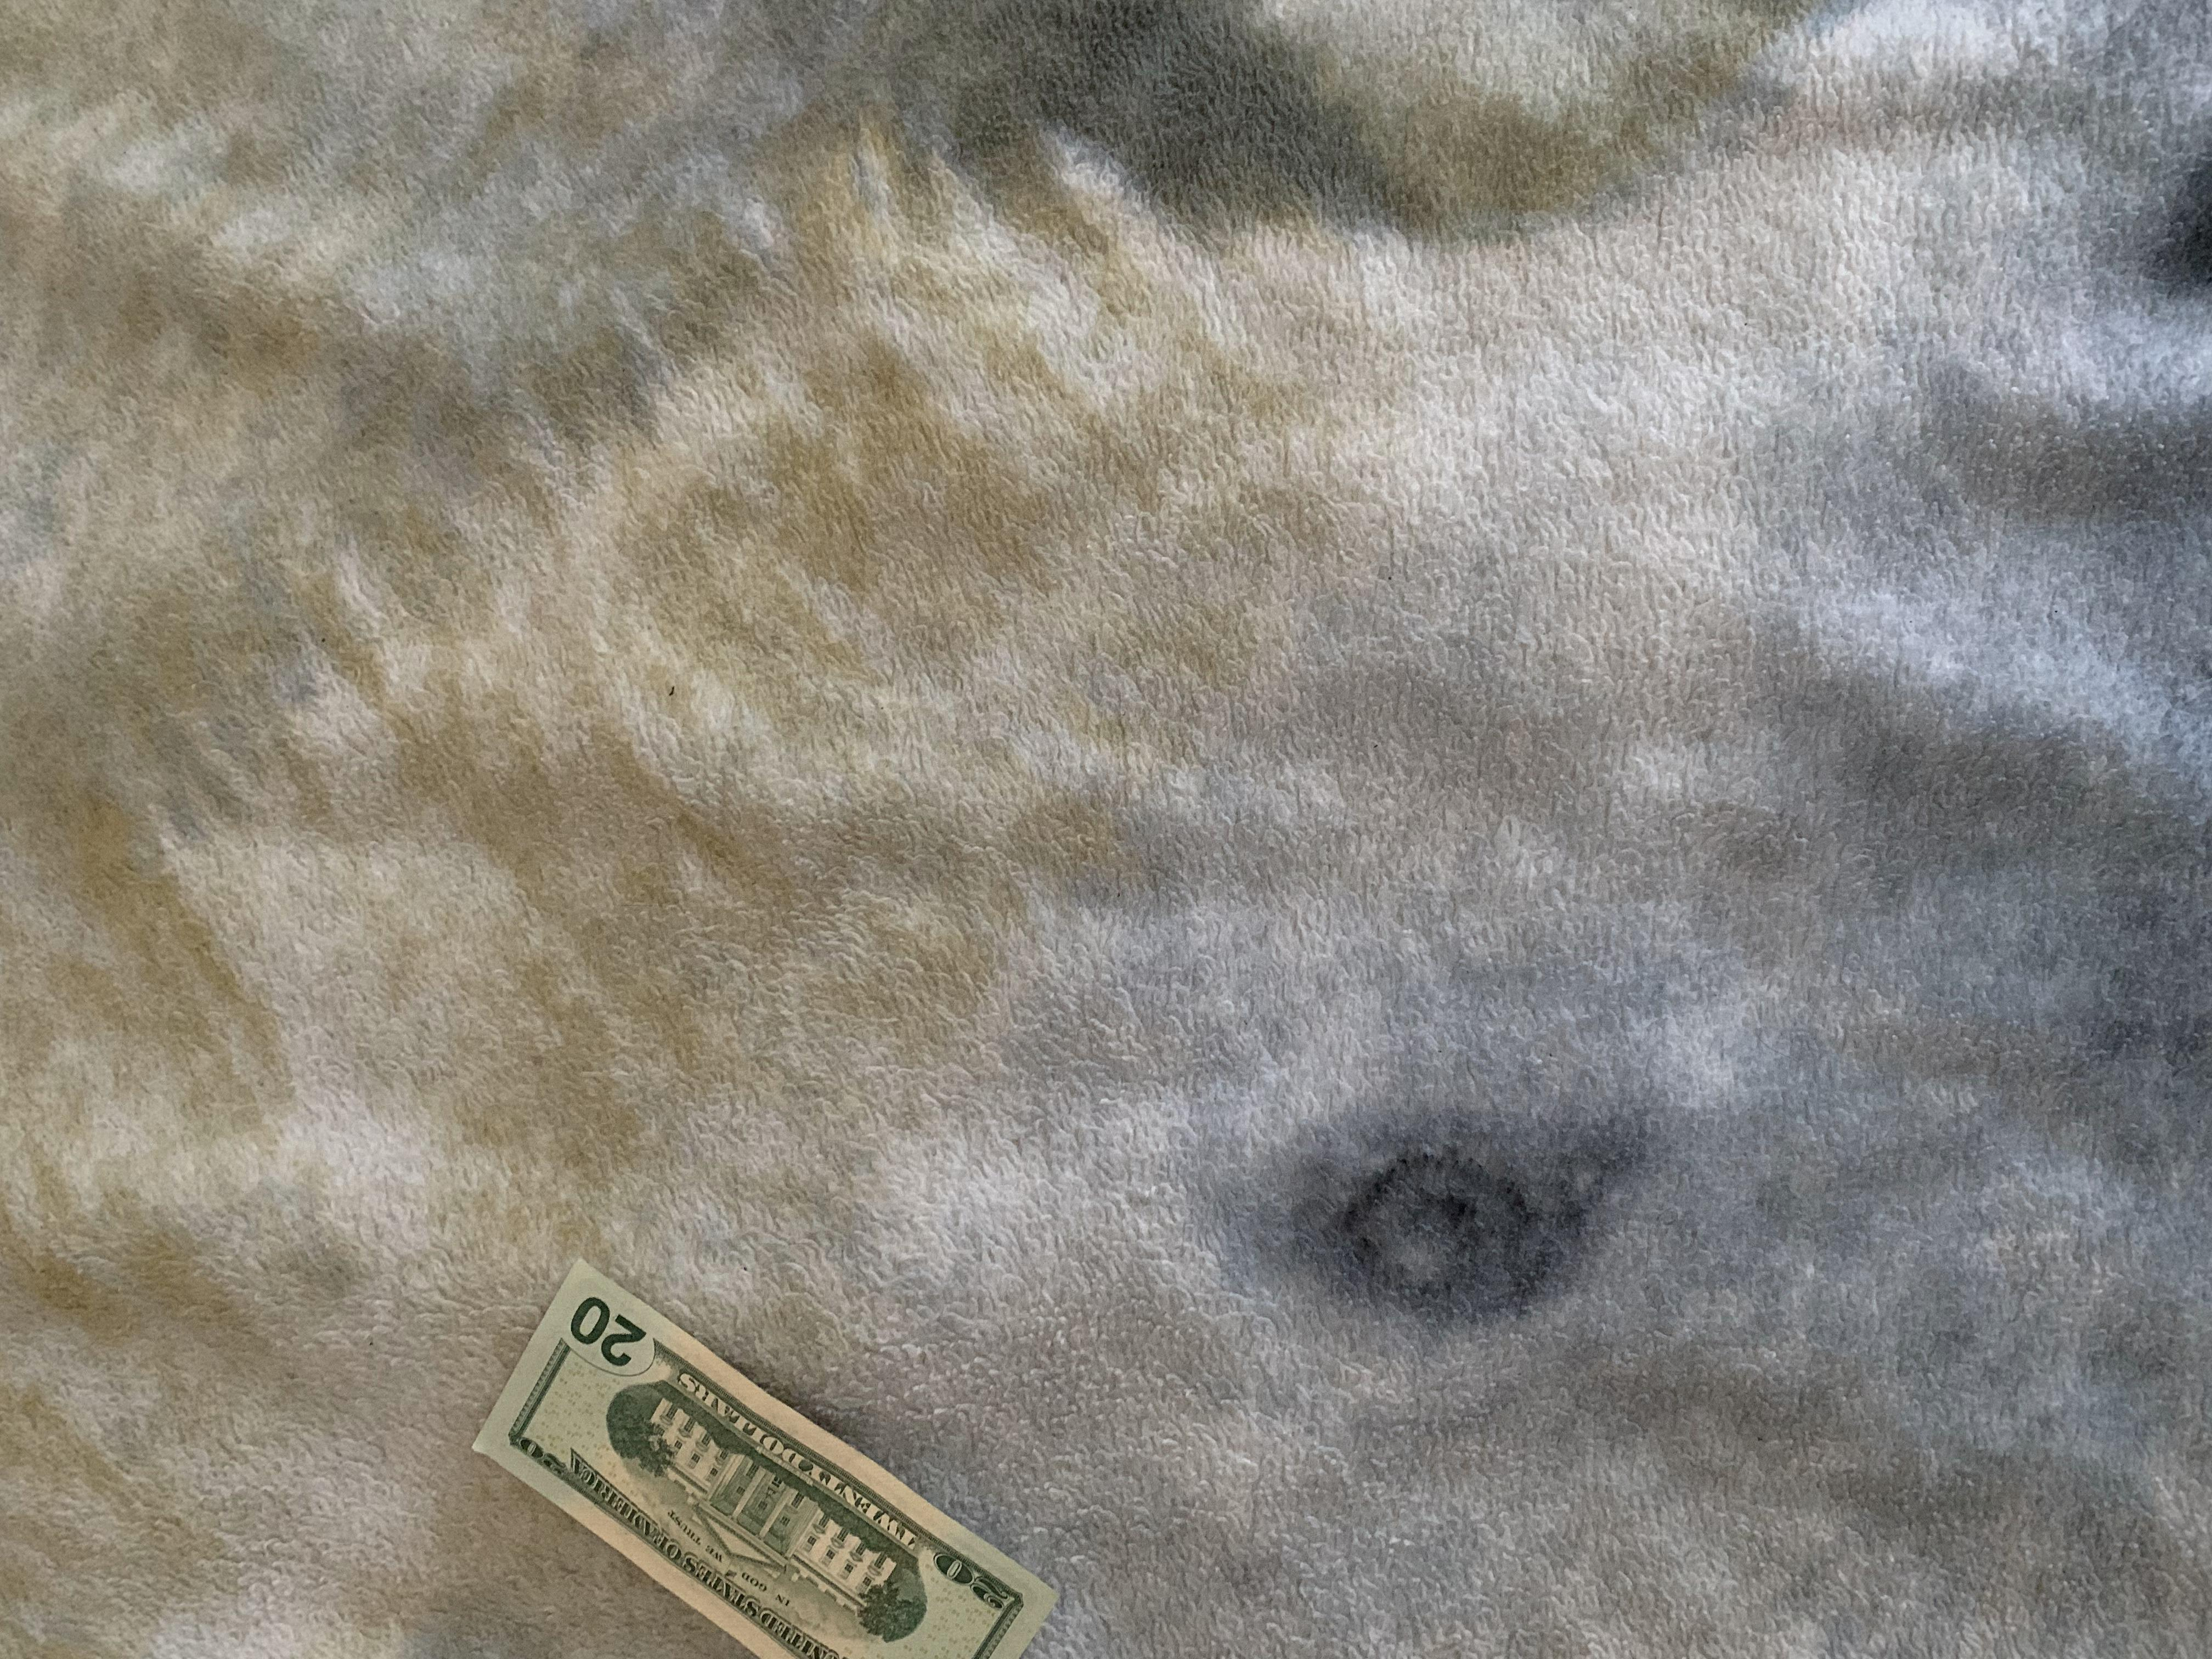TwentyBill: (465, 1251, 1057, 1657)
